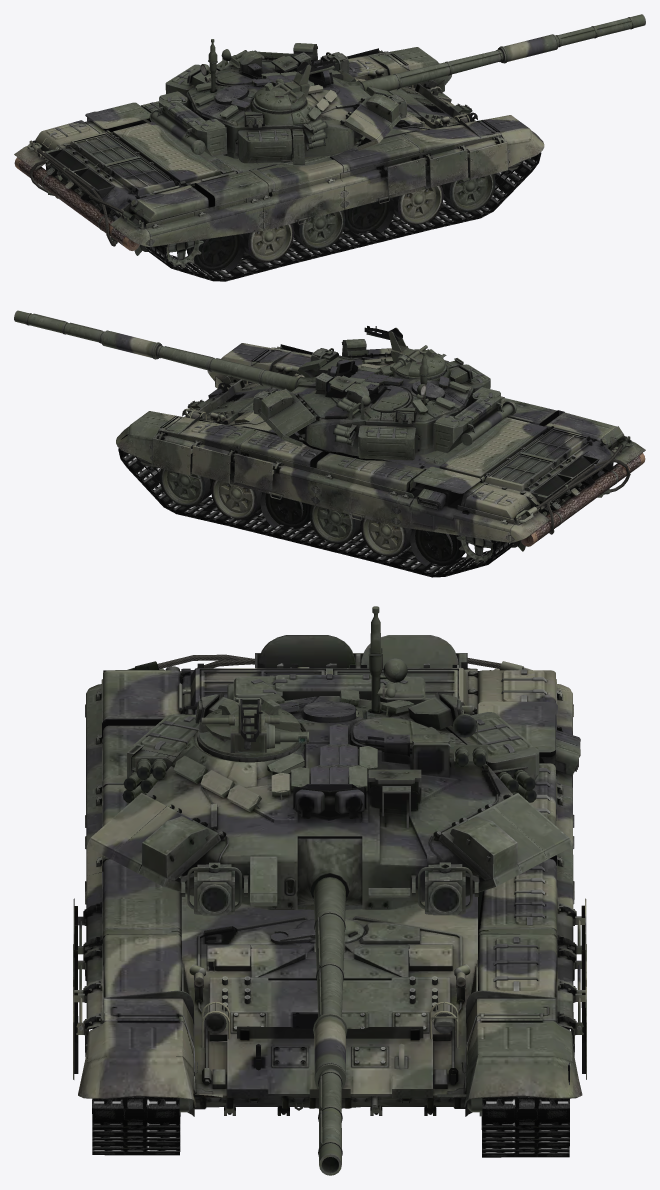
The picture shows the model from 3 angles, top to bottom: view 1: azimuth 30°, elevation 25°; view 2: azimuth 150°, elevation 25°; view 3: azimuth 270°, elevation 25°; orthographic projection. The views are drawn at different scales.
Visible parts, largest first — view 1: root; view 2: root; view 3: root.
Boxes of the visible parts, bbox=[...] form: root: bbox=[14, 14, 645, 281]; root: bbox=[14, 310, 645, 577]; root: bbox=[73, 606, 586, 1175].
Size of the model in its own units: 9.5 by 2.78 by 3.68.
Materials: 2 (2 with a texture image).
